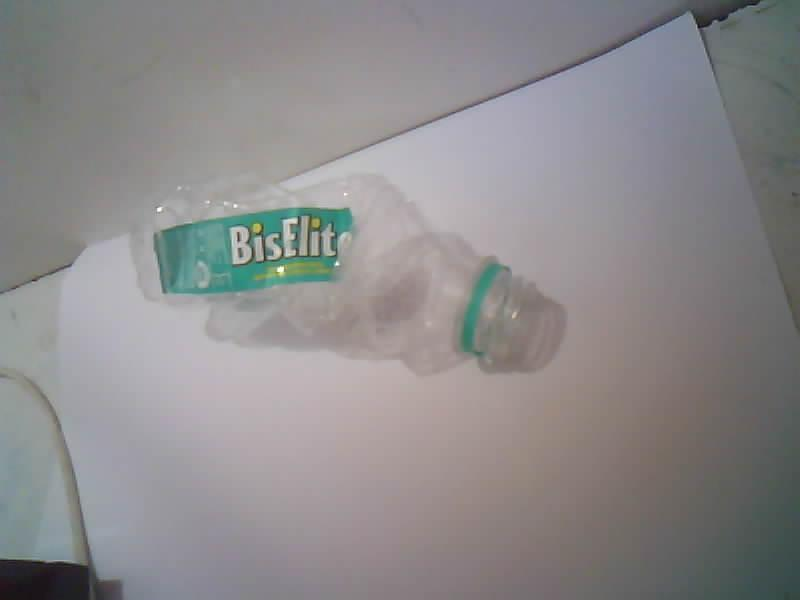non-biodegradable: (131, 174, 565, 374)
